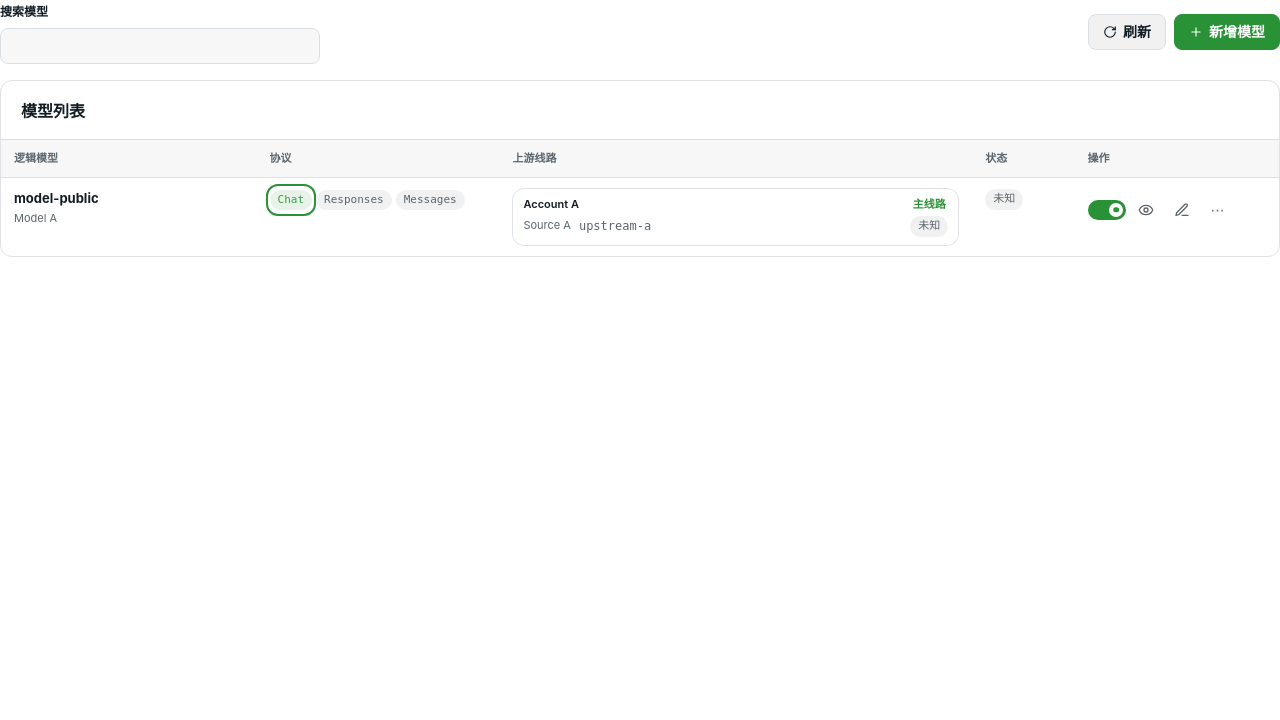
Test case: production control-plane pages › opens published capabilities from a protocol button without editing or writing configuration
Click the button with aria-label "查看 model-public 的 Chat Completions 能力".
click(291, 200)  # box [270, 188, 312, 212]
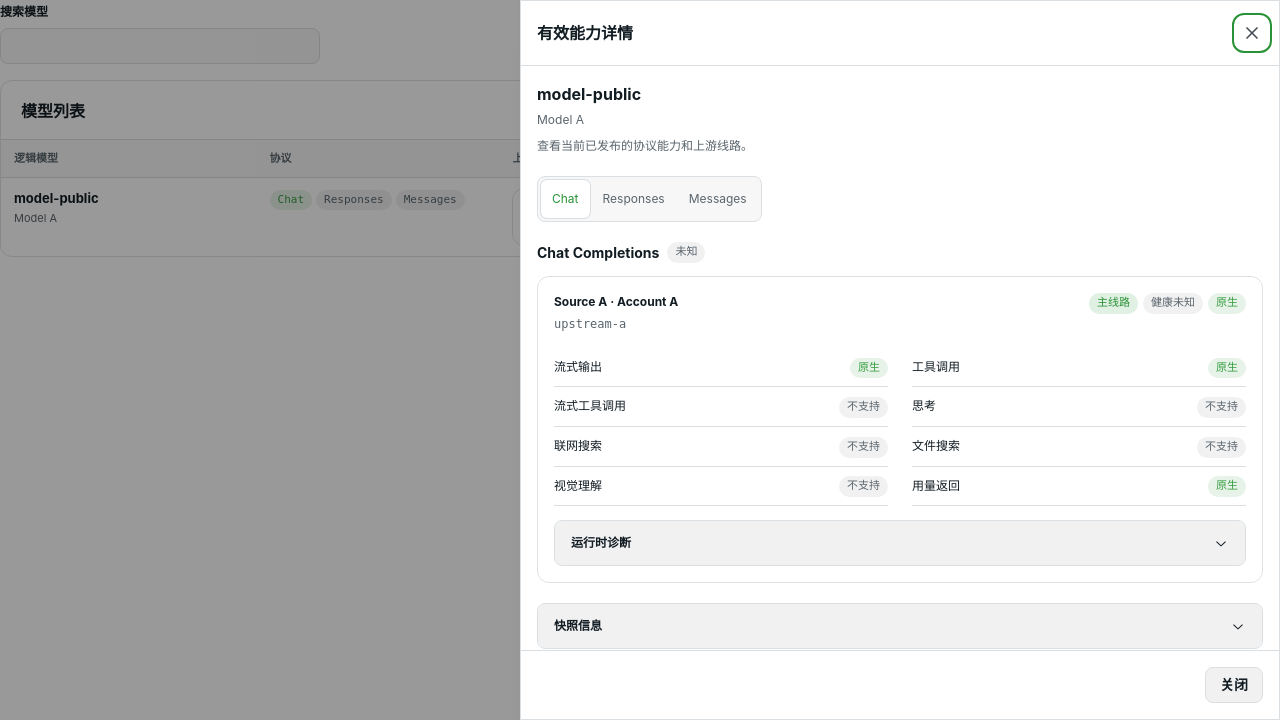
Expected: the dialog shows "有效能力详情", [537, 23, 633, 43]
Expected: the dialog shows "工具调用", [912, 359, 960, 374]
Expected: the dialog shows "不支持", [847, 400, 880, 413]
Click the tab "Messages".
click(718, 199)  # box [678, 180, 758, 218]
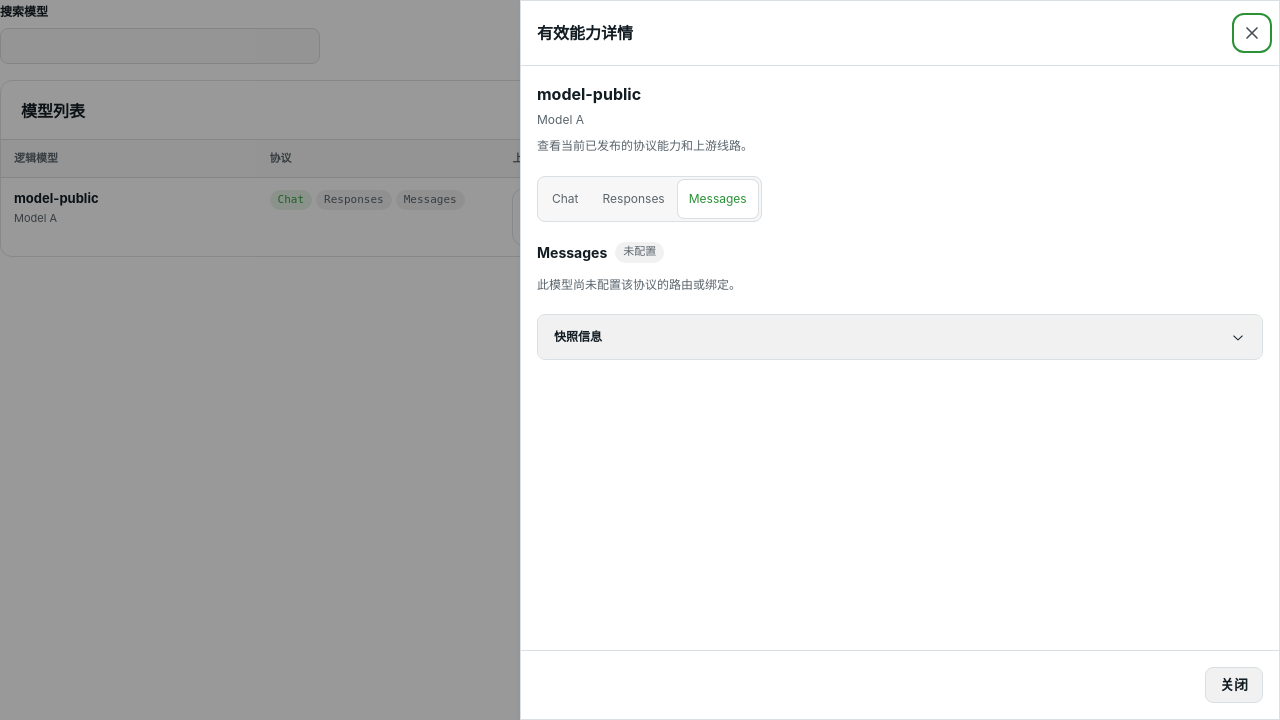
Expected: the panel shows "未配置", [623, 245, 656, 258]
Expected: the element named "有效功能能力" is gone
Click the button named "关闭".
click(1252, 33)  # box [1236, 17, 1268, 49]
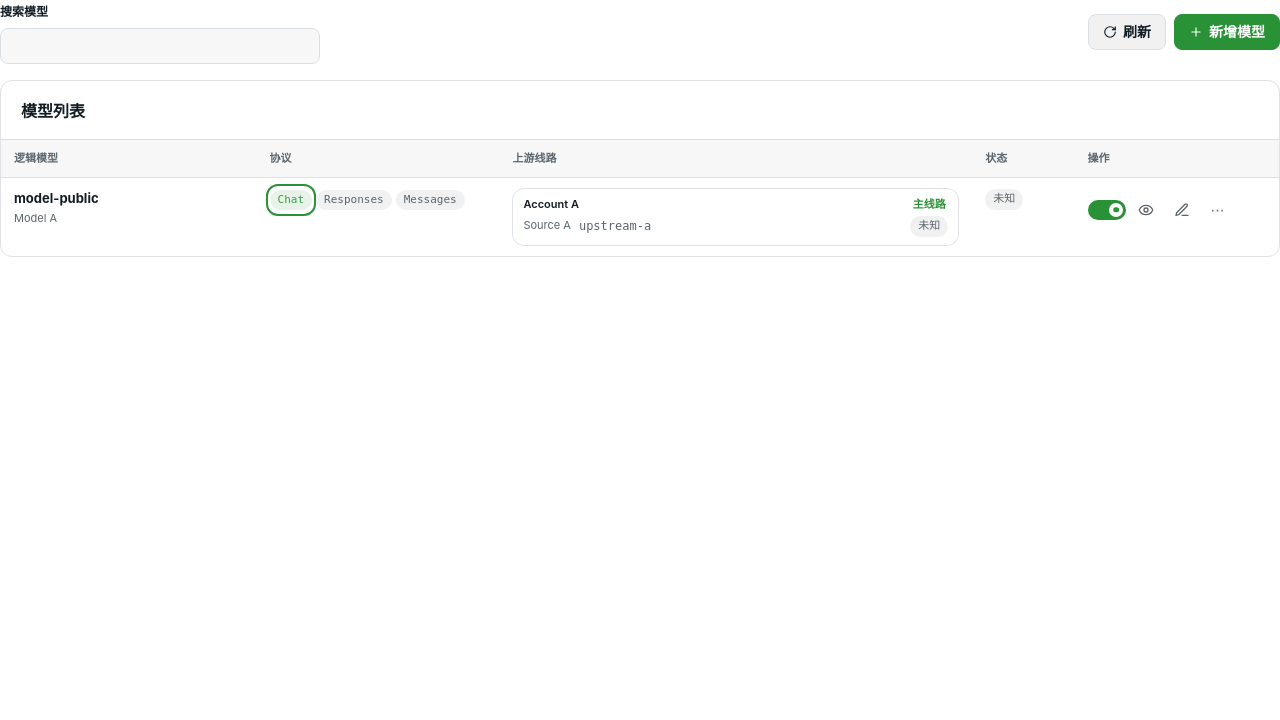
Expected: the dialog is gone
